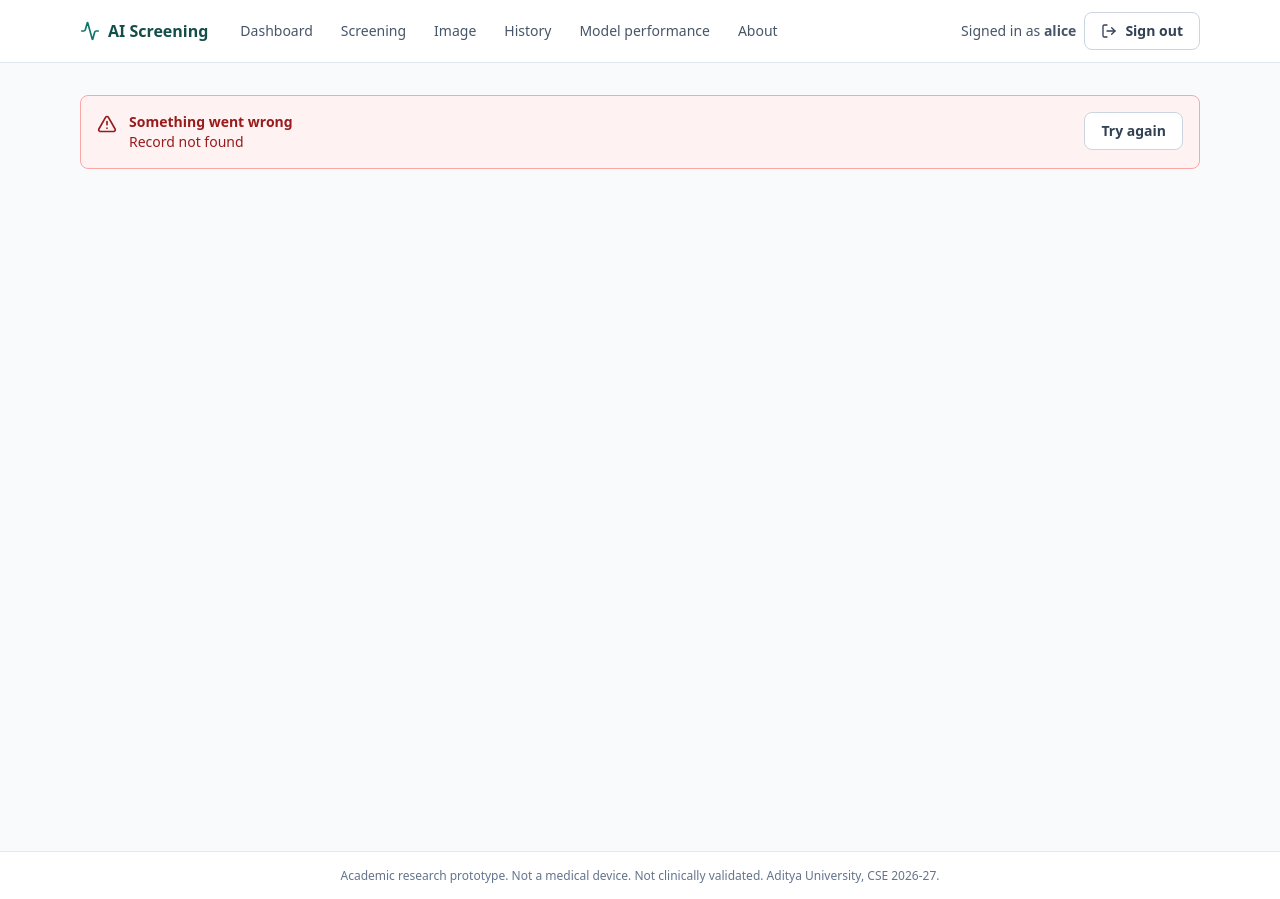
Test: result page › shows an error with retry when the record cannot be loaded
Expected: the message shows "Record not found", top-left (129, 132), bottom-right (244, 151)
Click the button "Try again": [1134, 131] box top-left (1084, 112), bottom-right (1183, 150)
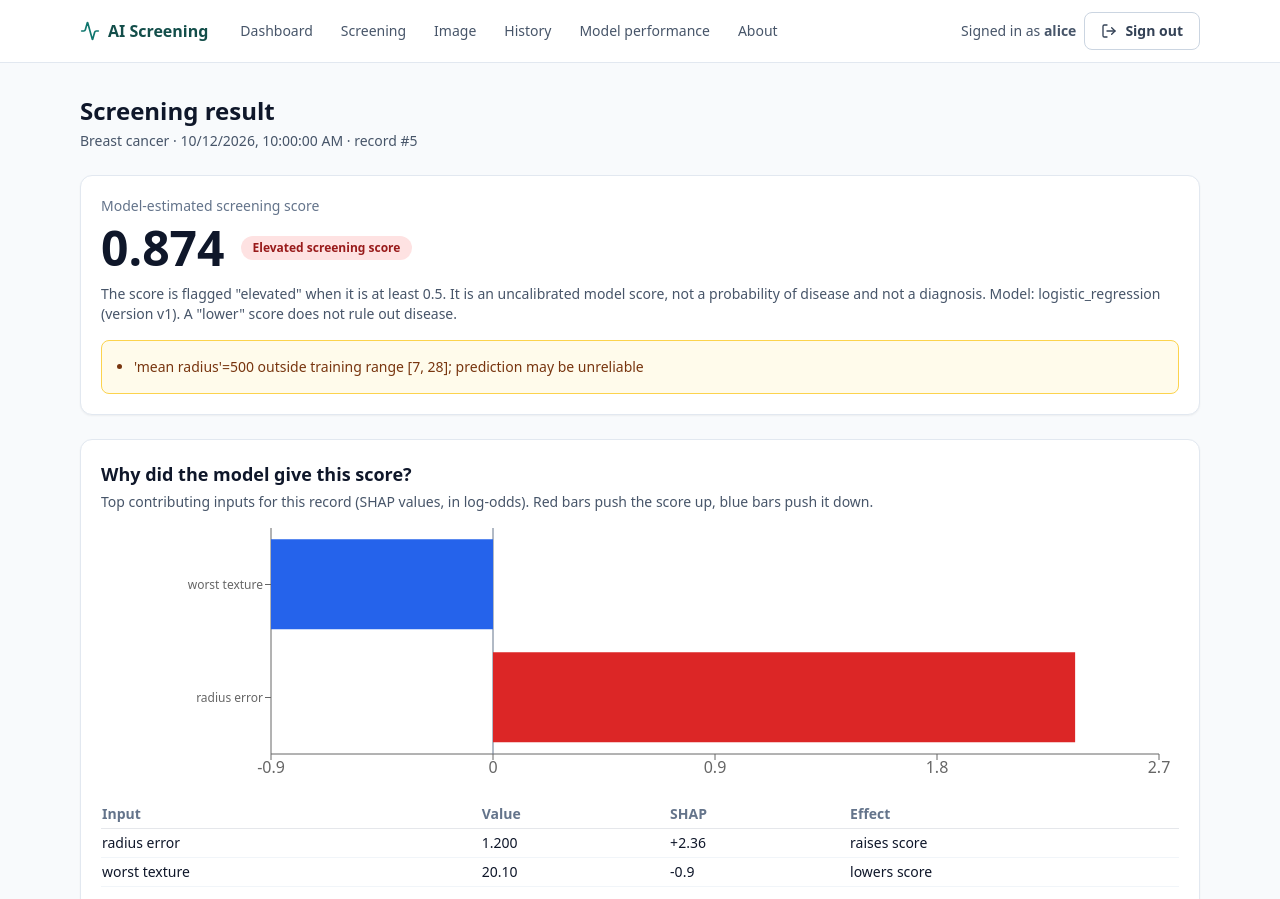
Now the text "0.874" is shown, box top-left (101, 224), bottom-right (224, 272)
